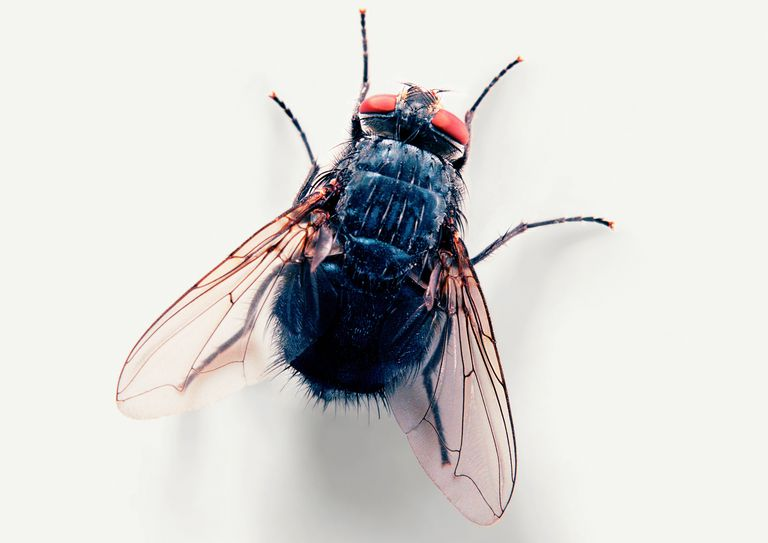fly: (111, 6, 624, 534)
